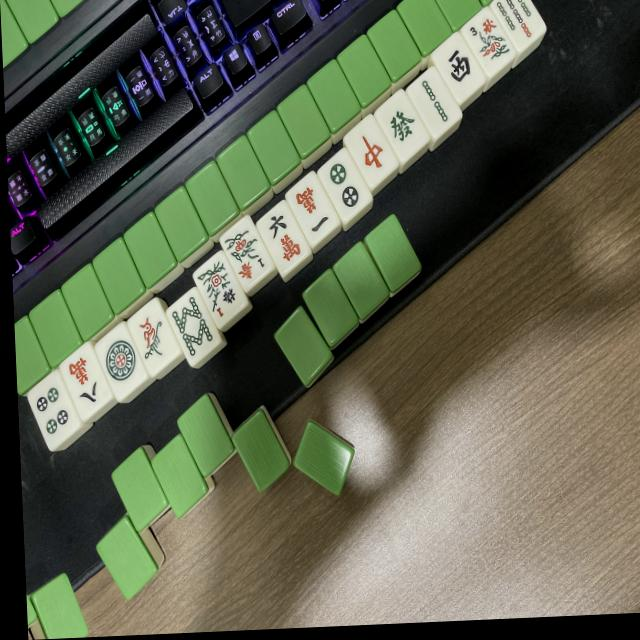1B: (126, 300, 184, 375)
1C: (282, 171, 342, 246)
1D: (90, 322, 152, 400)
1F: (191, 250, 253, 329)
1S: (218, 216, 278, 290)
2B: (404, 67, 464, 140)
2D: (314, 149, 374, 225)
3S: (462, 7, 520, 76)
4D: (23, 373, 86, 453)
6C: (256, 202, 315, 276)
7B: (490, 0, 549, 52)
8B: (164, 288, 225, 366)
8C: (56, 345, 118, 420)
GD: (373, 91, 432, 164)
RD: (342, 118, 402, 191)
WW: (430, 34, 488, 103)
